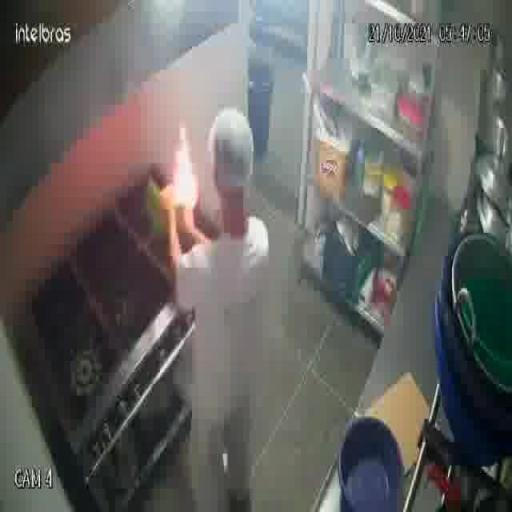smoke: (169, 131, 200, 210)
